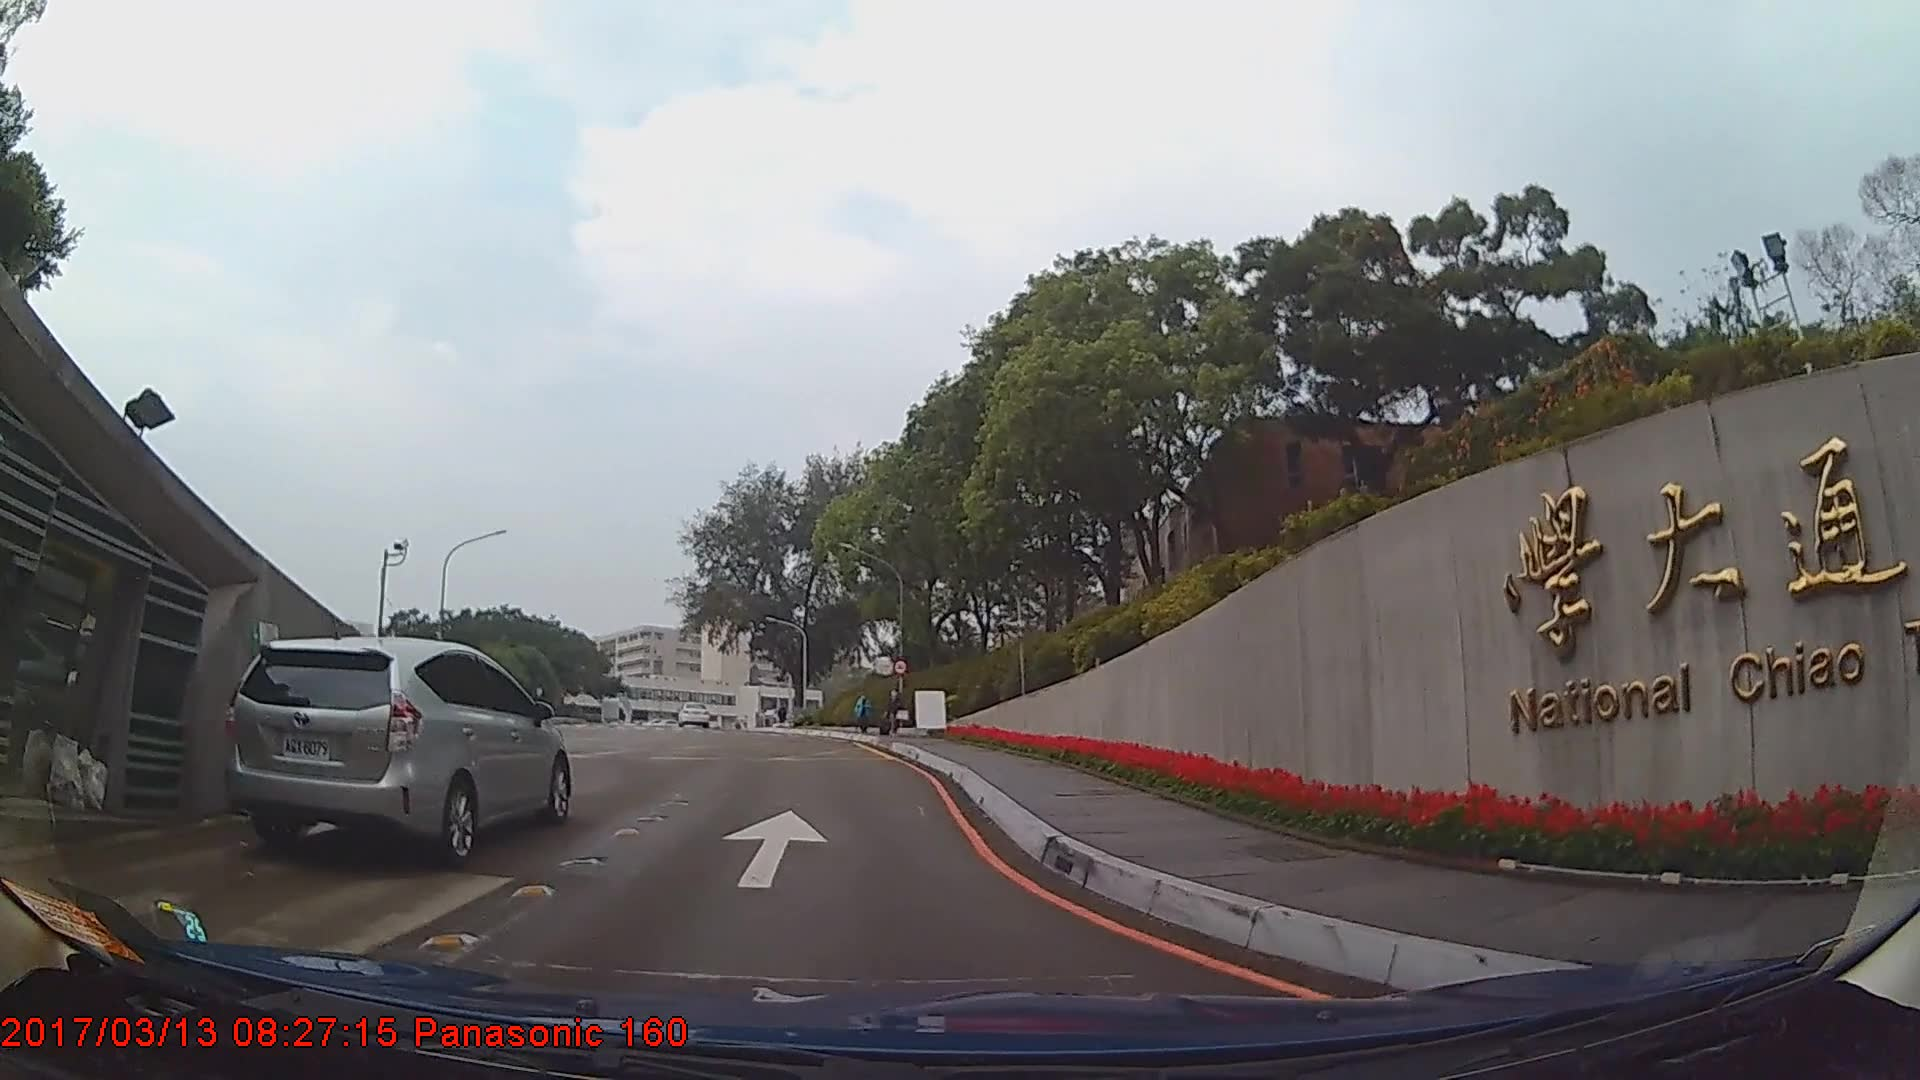pedestrian: (882, 688, 910, 737), (853, 694, 873, 738)
vehicle: (224, 632, 571, 867), (672, 696, 712, 725)
